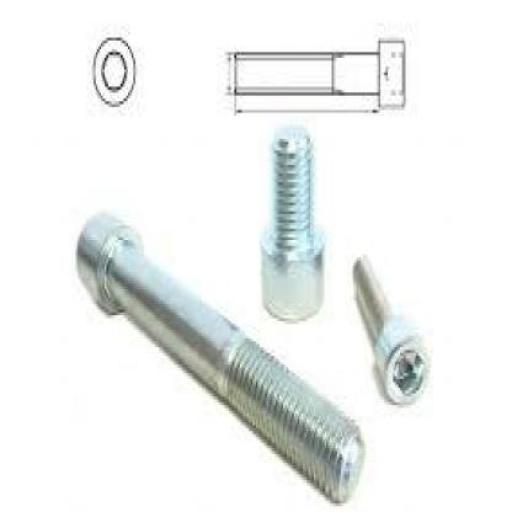Bolt: (75, 210, 368, 506), (227, 38, 407, 114), (258, 124, 326, 324), (350, 255, 433, 408)
